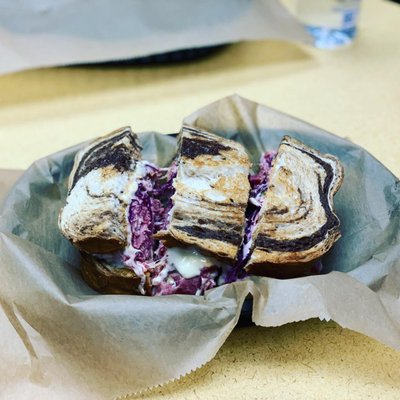pizza: (275, 0, 362, 53)
